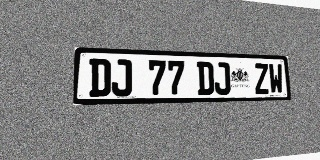7: (147, 60, 167, 96), (167, 61, 185, 96)
D: (89, 58, 111, 97), (197, 61, 214, 95)
J: (111, 59, 132, 96), (214, 62, 231, 95)
W: (268, 64, 284, 94)
Z: (254, 63, 270, 94)
